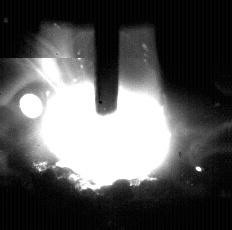arame: (95, 0, 120, 116)
poca: (38, 0, 171, 230)
